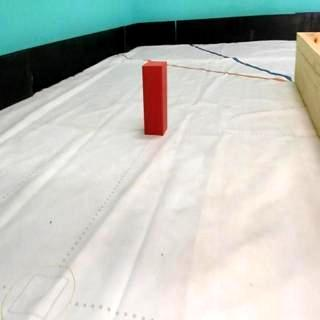redbox: (142, 59, 166, 135)
